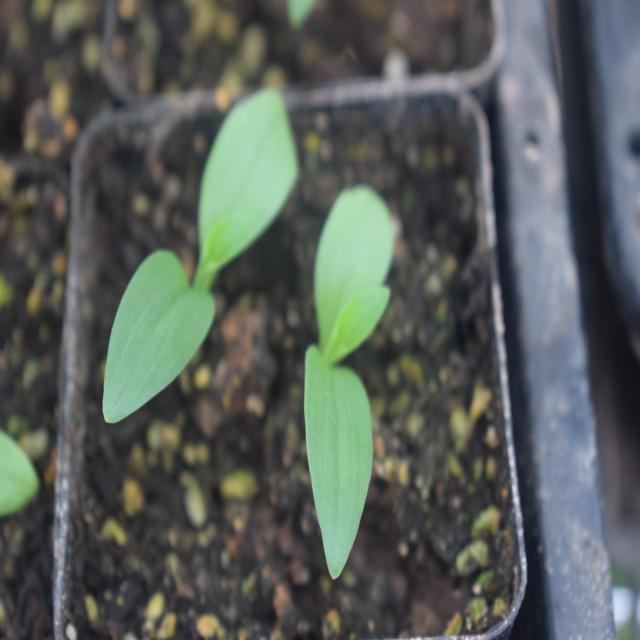Common Dayflower: (101, 92, 306, 435), (300, 178, 392, 604)
